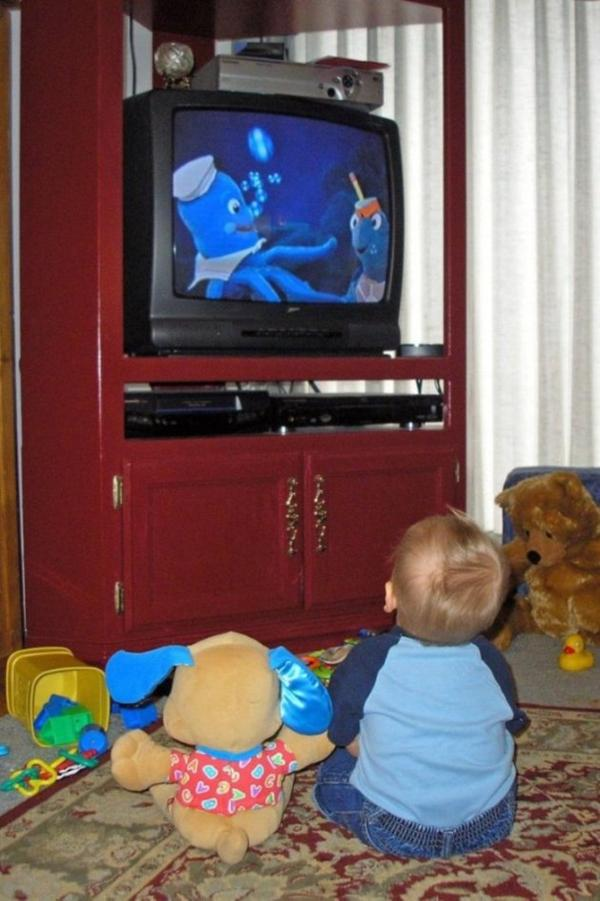person: (312, 512, 528, 860)
